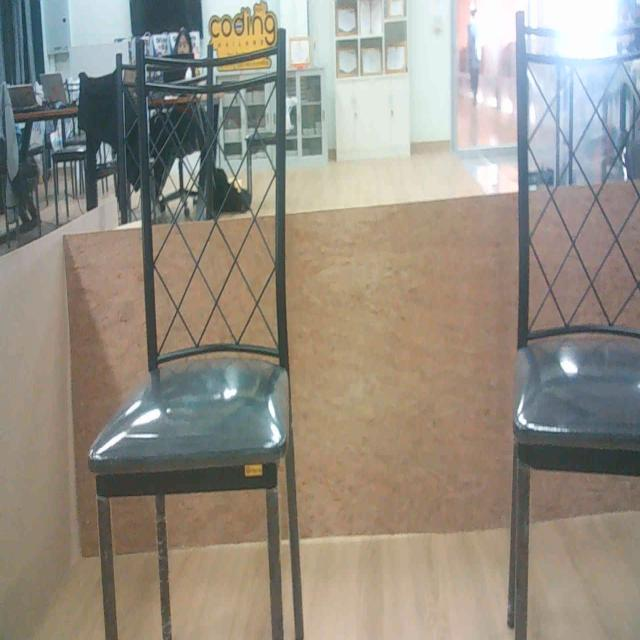emtpy: (86, 36, 309, 640), (516, 0, 640, 640)
